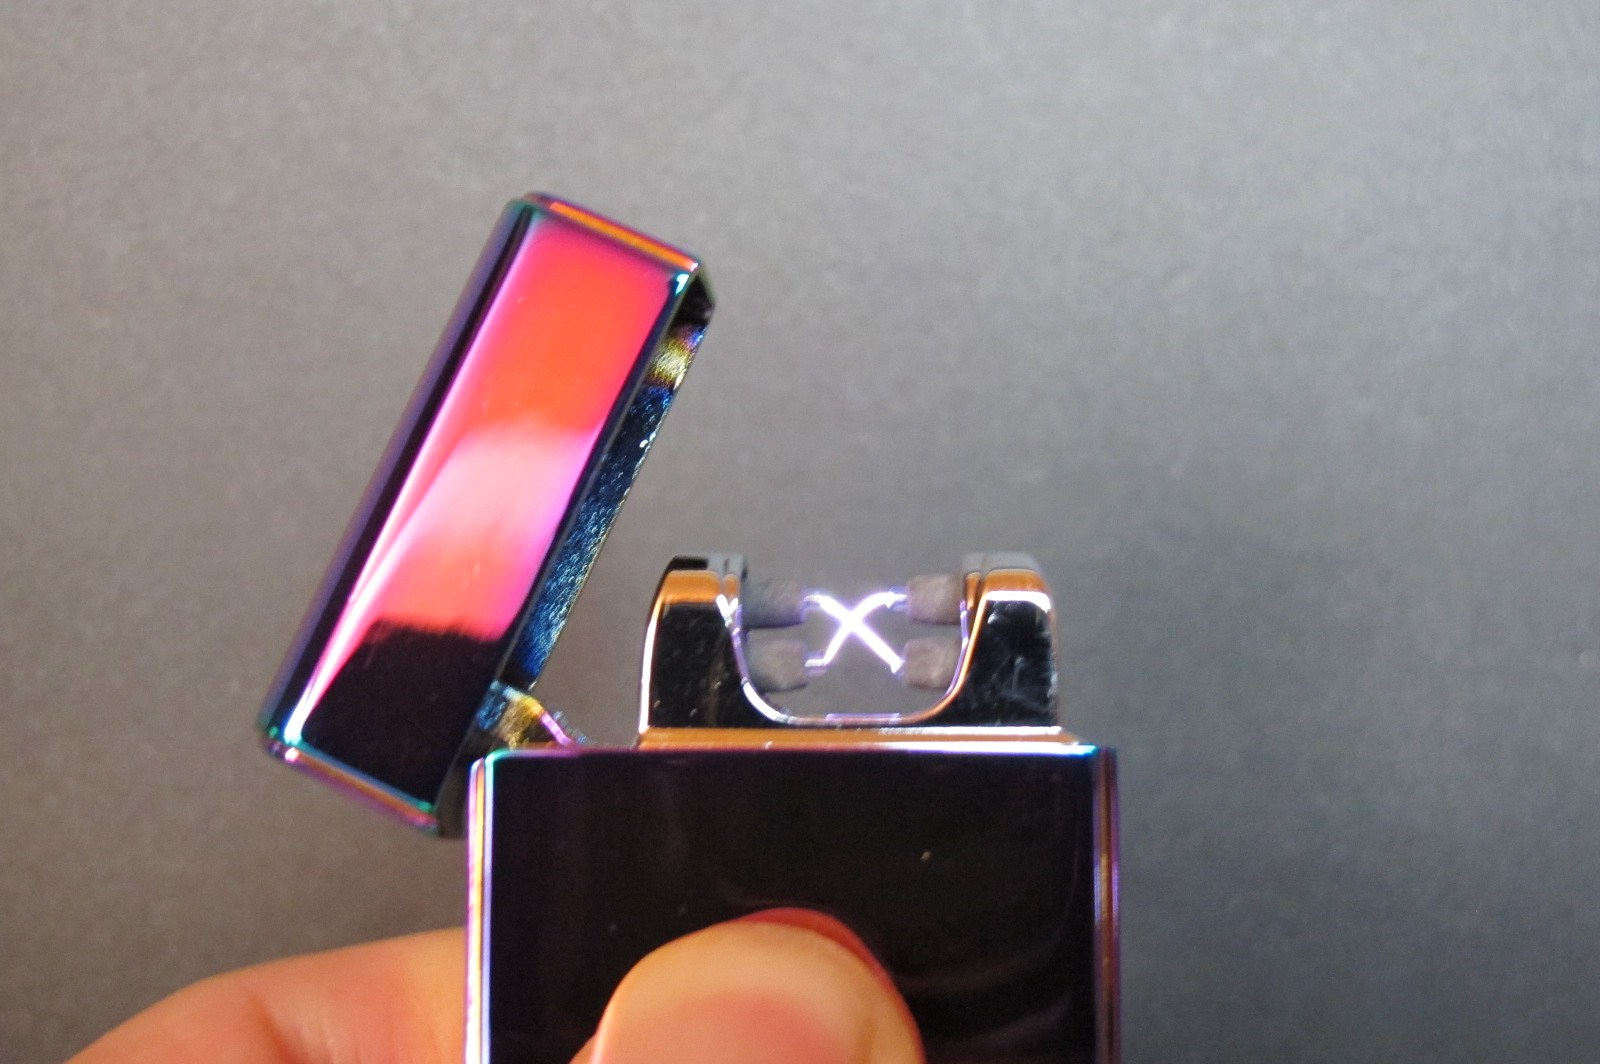Nonrec_Other: (264, 122, 1139, 1060)
